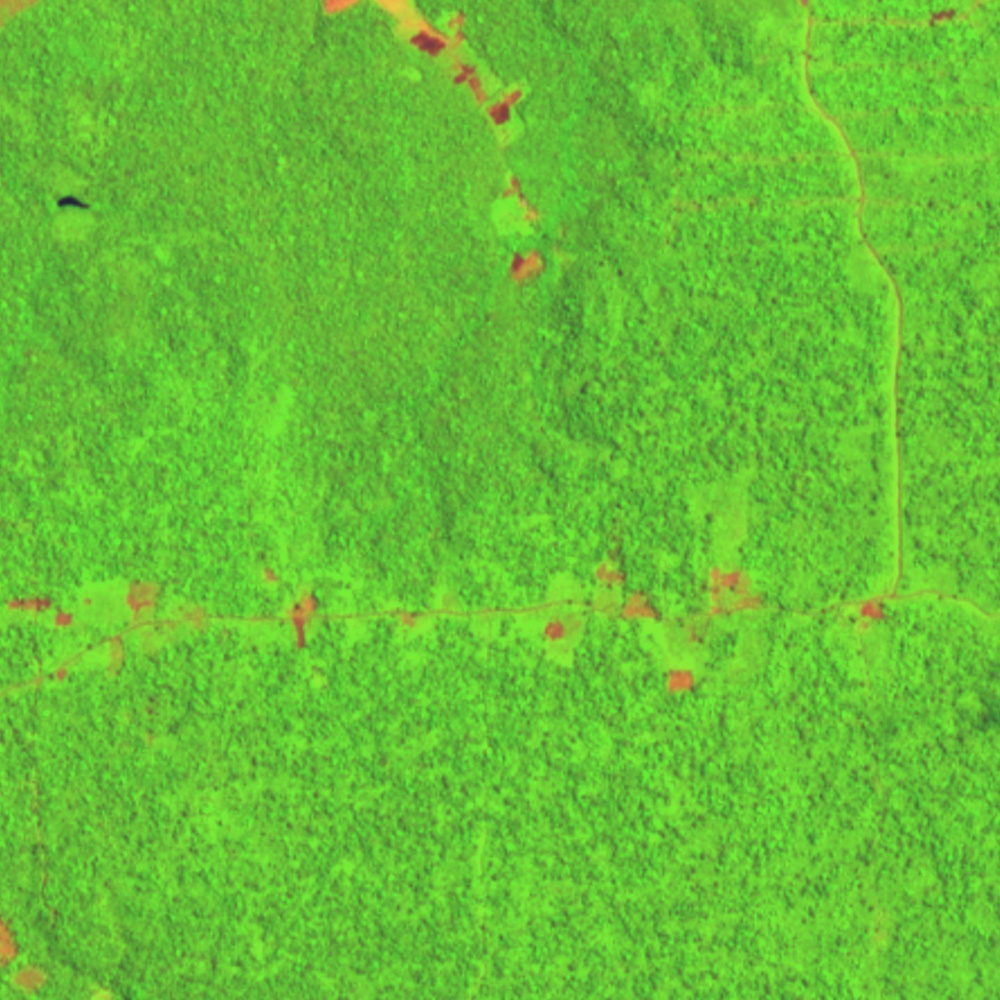legal: (322, 1, 529, 148), (3, 575, 211, 686), (678, 560, 769, 642), (491, 176, 555, 292), (590, 547, 664, 626), (1, 919, 48, 993), (528, 602, 592, 655), (288, 583, 322, 647), (54, 192, 100, 236), (855, 592, 891, 631), (662, 666, 699, 700), (922, 9, 963, 30)
